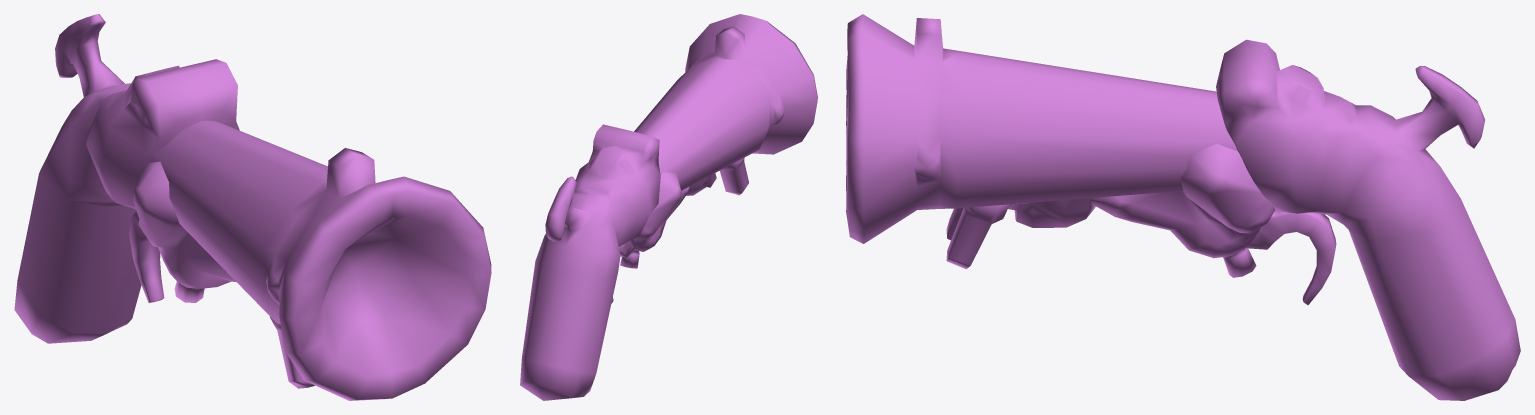
The model's file is Frostgun.fbx.
3 views of the same model, side by side, from view 1: azimuth 30°, elevation 25°; view 2: azimuth 150°, elevation 25°; view 3: azimuth 270°, elevation 25° (orthographic). The views are drawn at different scales.
Parts seen in each view (by area): view 1: Frost_Musket; view 2: Frost_Musket; view 3: Frost_Musket.
Boxes of the visible parts, x1,y1,x2,y2 form: Frost_Musket: (14,14,491,400); Frost_Musket: (520,14,817,400); Frost_Musket: (846,14,1520,400).
Size of the model in its own units: 4153 by 11844 by 7205.
